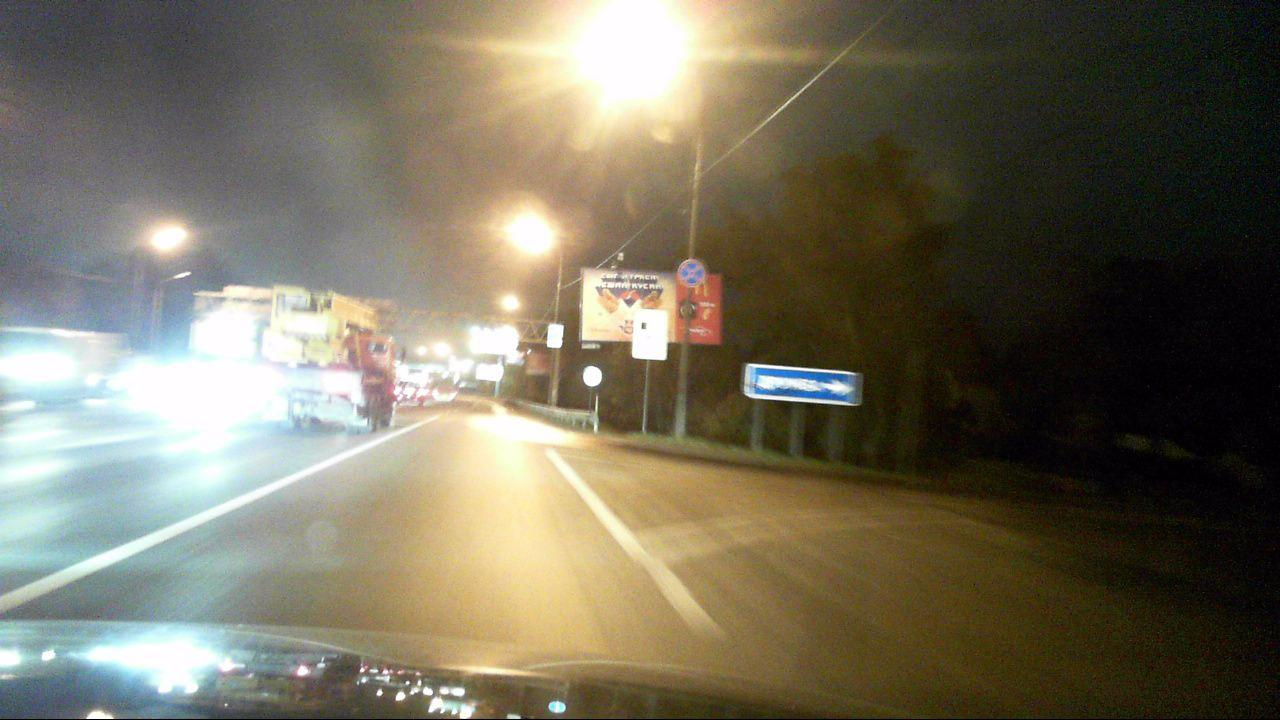road_sign: (678, 259, 707, 289)
